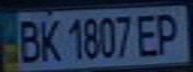0: (100, 13, 118, 60)
1: (63, 15, 84, 60)
7: (115, 12, 136, 59)
8: (81, 13, 100, 60)
B: (12, 16, 45, 64)
E: (133, 11, 163, 57)
K: (36, 15, 63, 63)
P: (151, 9, 187, 56)
